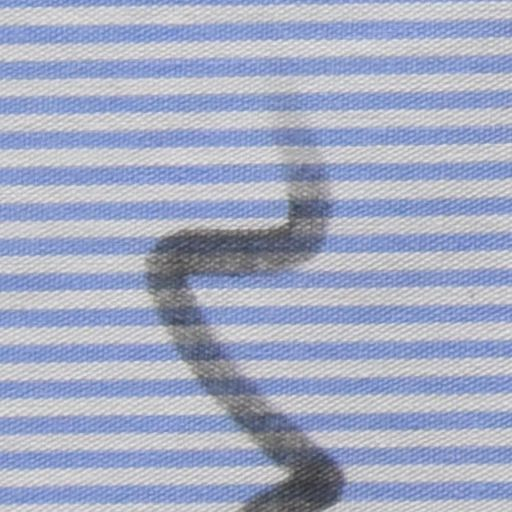defect: (154, 126, 335, 512)
